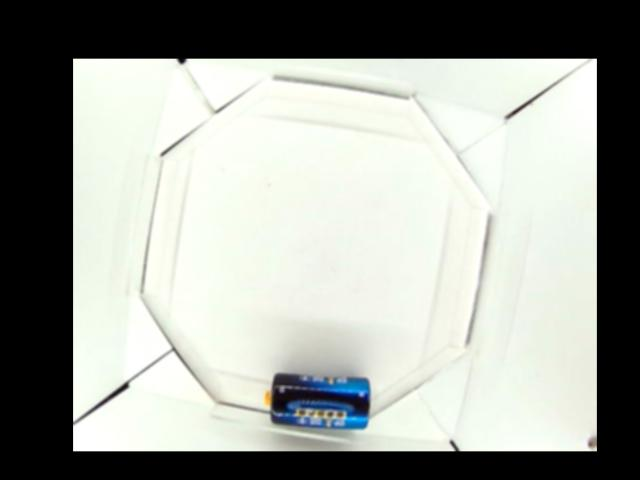Battery: (264, 375, 371, 428)
